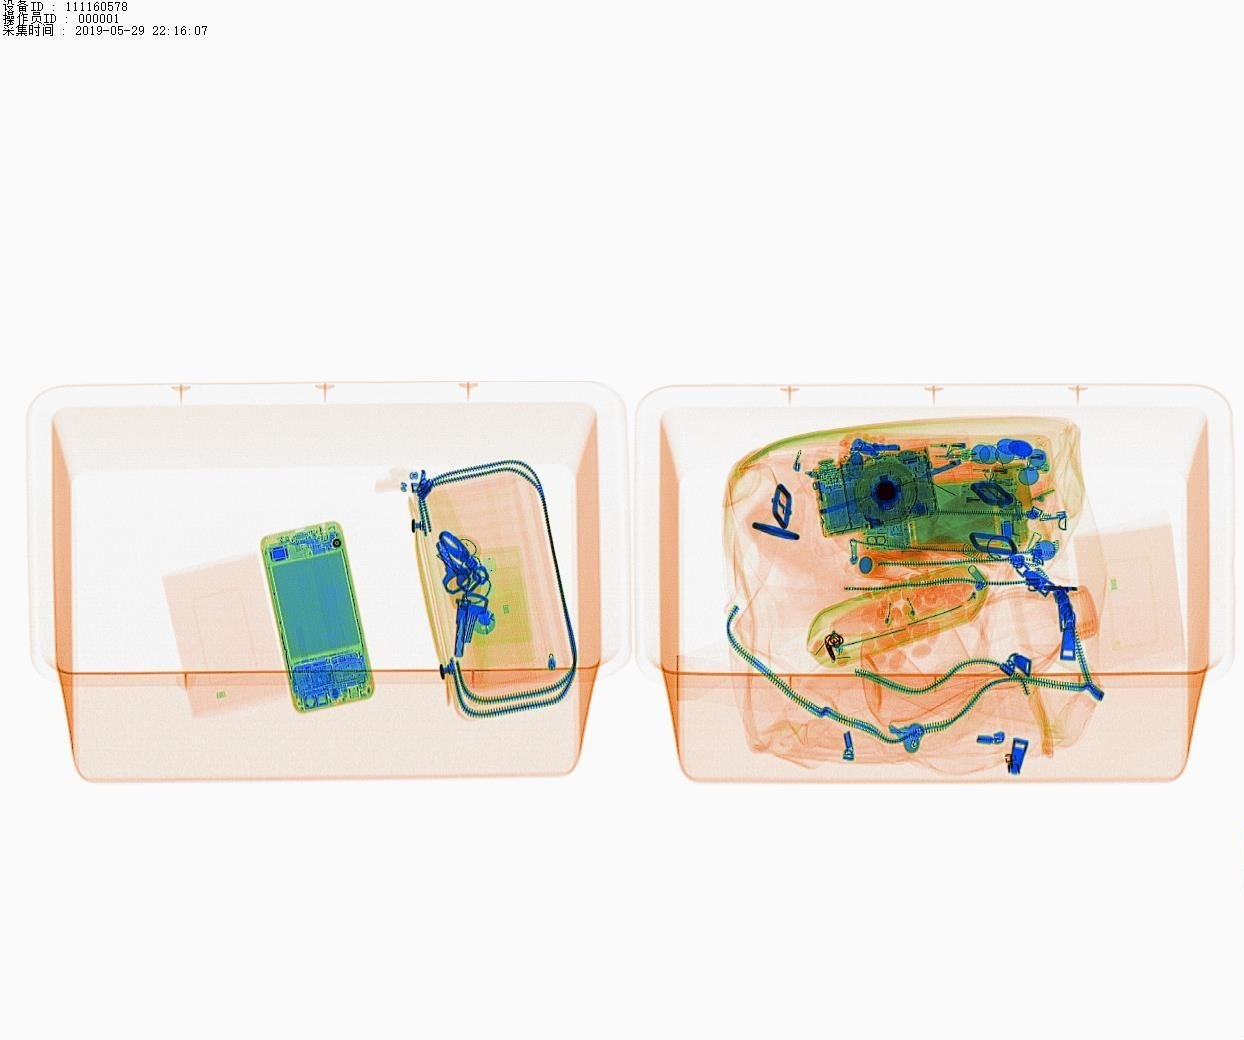NonmetallicFire: (941, 440, 1068, 492), (929, 471, 1046, 513), (898, 429, 1016, 469)
